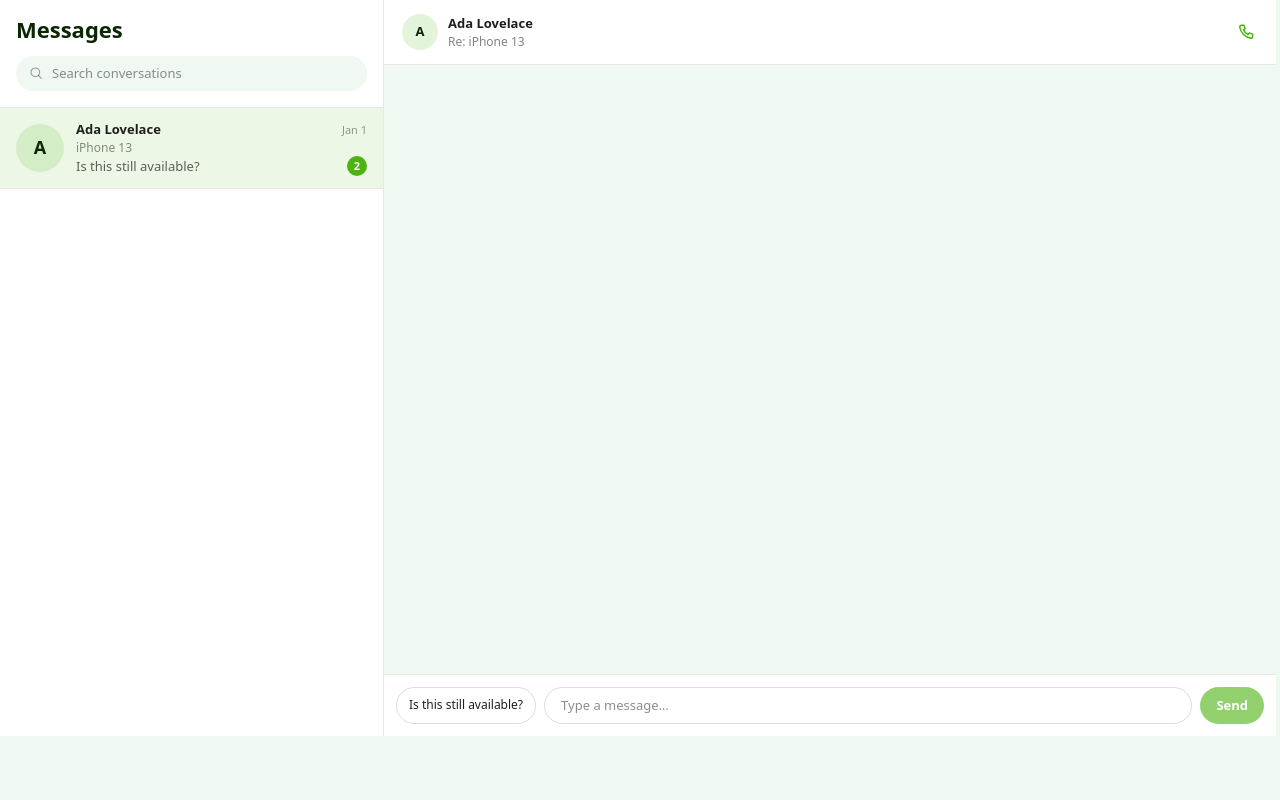
Test: MessagesPage seller detail panel › opens with seller info and top shop items when the header is clicked
The image size is (1280, 800).
Click the button "A Ada Lovelace Re: iPhone 13".
click(420, 32)  # box [396, 10, 1224, 54]
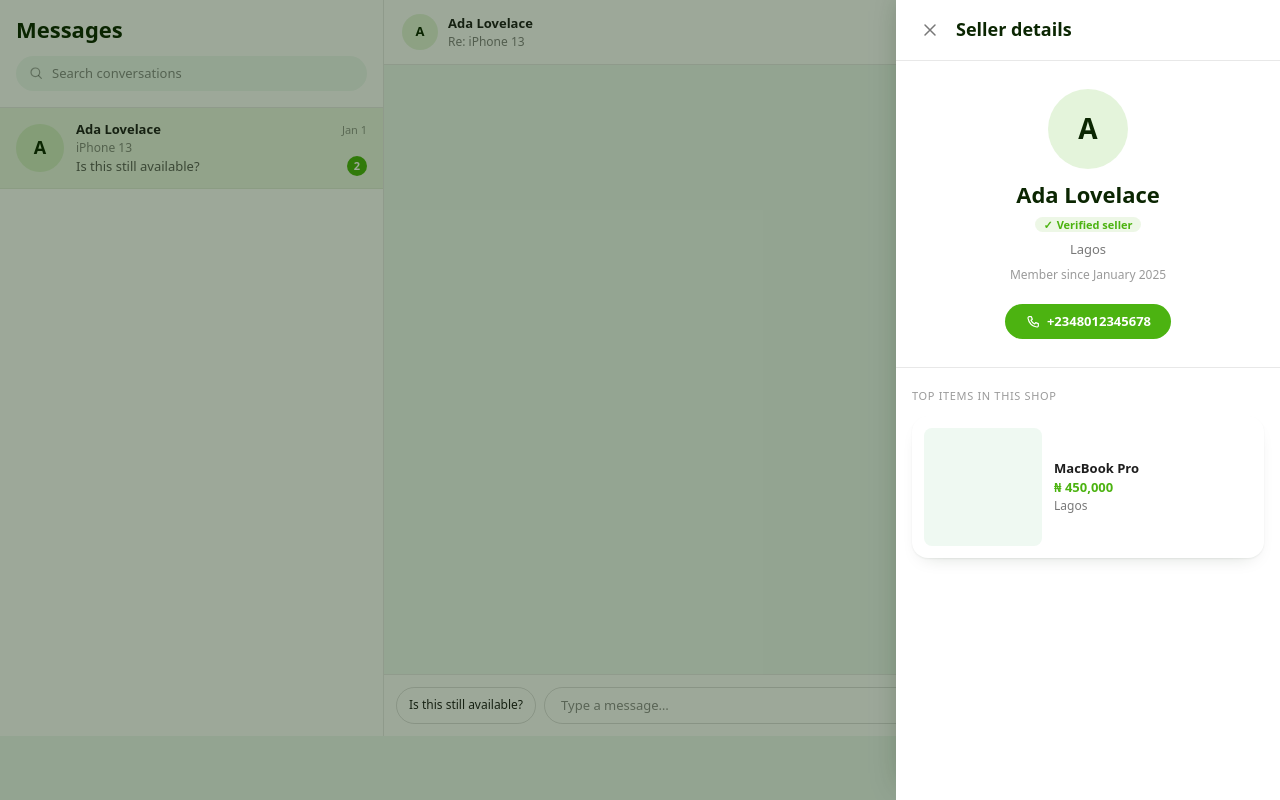
Result: the text "Seller details" is shown at [956, 18, 1072, 42]
Result: the link "+2348012345678" is shown at [1005, 304, 1171, 339]
Result: the text "MacBook Pro" is shown at [1054, 459, 1139, 477]
